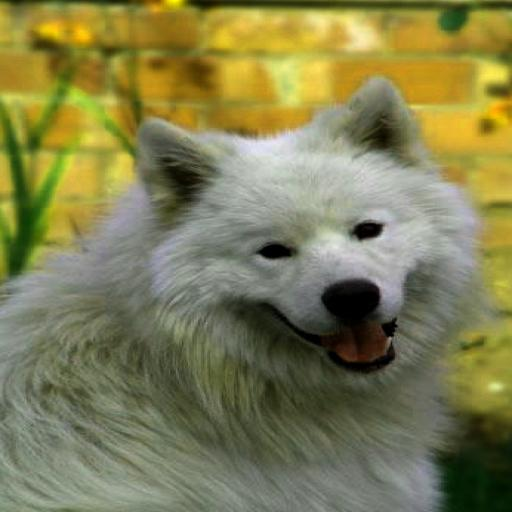dog_face: (146, 88, 439, 374)
